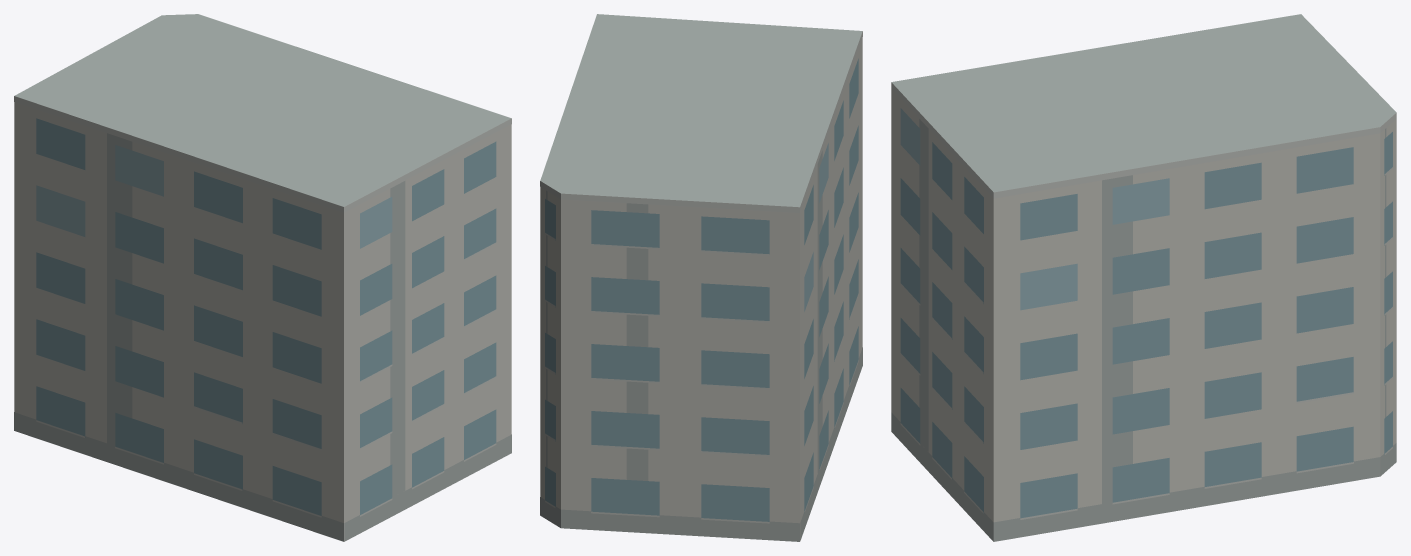
Rendered from survey-upis-32942398.glb.
3 views of the same model, side by side, from view 1: azimuth 30°, elevation 25°; view 2: azimuth 150°, elevation 25°; view 3: azimuth 270°, elevation 25° (orthographic). The views are drawn at different scales.
Visible parts, largest first — view 1: survey-upis-32942398.tmp; view 2: survey-upis-32942398.tmp; view 3: survey-upis-32942398.tmp.
Boxes of the visible parts, <box> form: survey-upis-32942398.tmp: <box>14,14,511,541</box>; survey-upis-32942398.tmp: <box>540,14,862,541</box>; survey-upis-32942398.tmp: <box>891,14,1396,541</box>.
Size of the model in its own units: 15.12 by 13.8 by 18.1.
